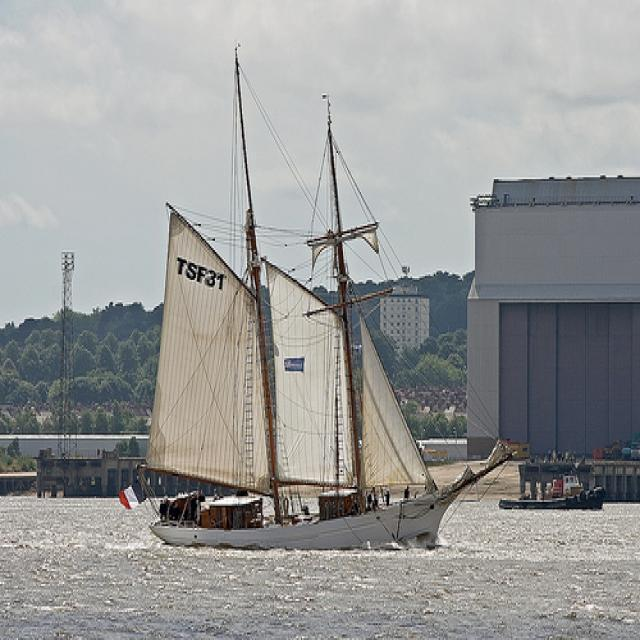Ship: (133, 68, 473, 566)
